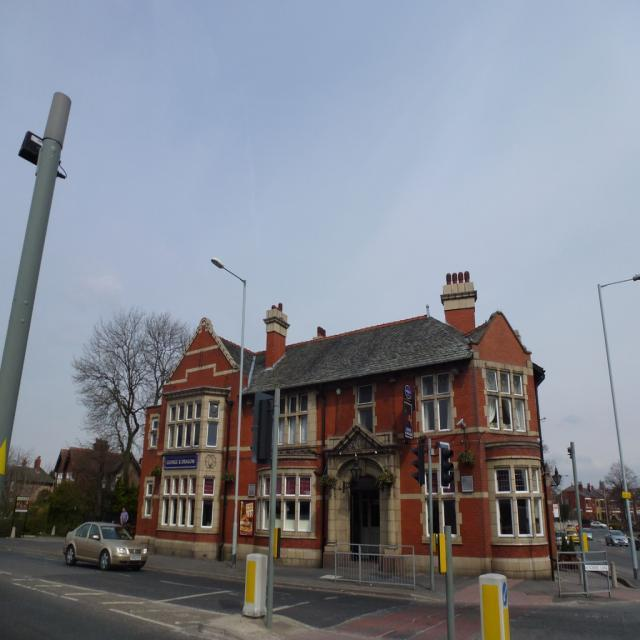off traffic light: (410, 447, 425, 484), (440, 448, 454, 486)
